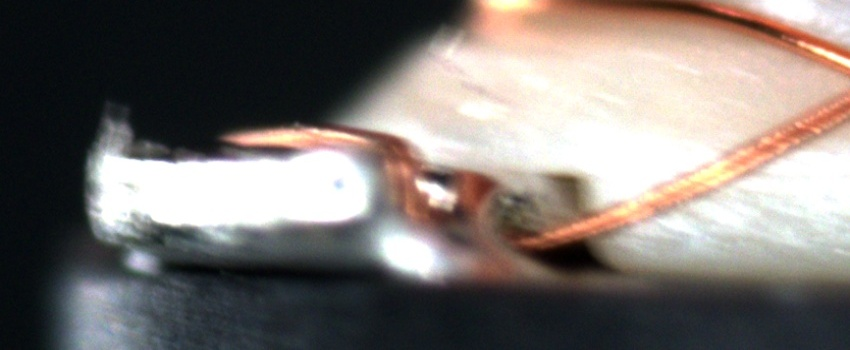DL: (781, 137, 850, 169)
TE: (215, 111, 435, 228)
